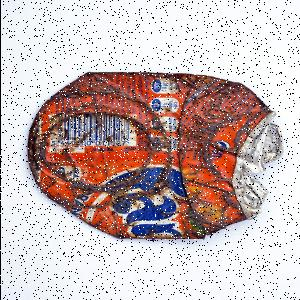Can: (27, 72, 285, 242)
